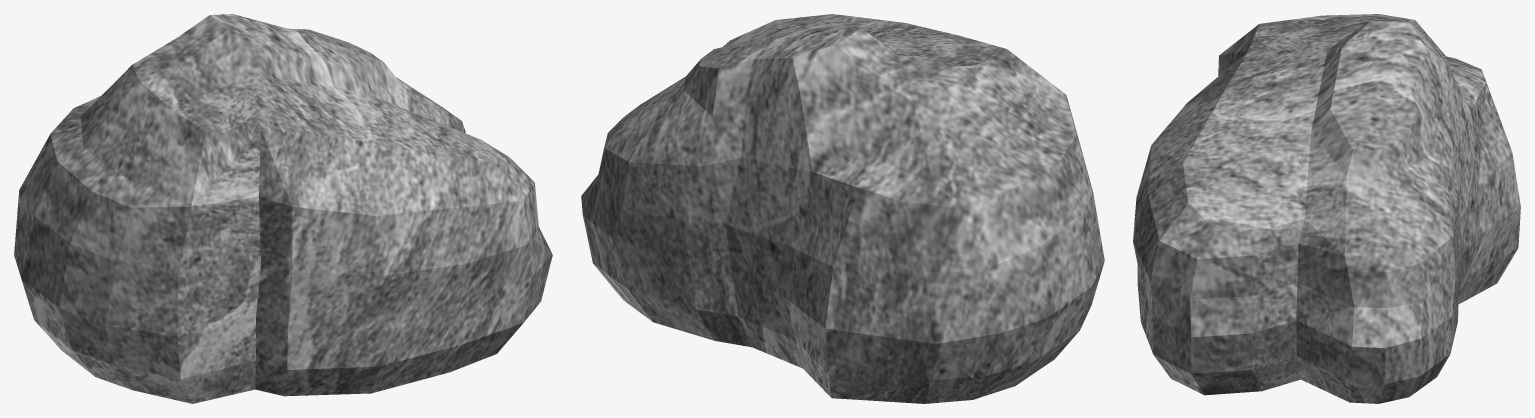
Rendered from Rock.fbx.
3 renders of one model, left to right at view 1: azimuth 30°, elevation 25°; view 2: azimuth 150°, elevation 25°; view 3: azimuth 270°, elevation 25°, orthographic. The views are drawn at different scales.
Visible parts, largest first — view 1: Line001; view 2: Line001; view 3: Line001.
Part boxes in pixels (<box>): Line001: <box>14,14,552,403</box>; Line001: <box>581,14,1104,403</box>; Line001: <box>1133,14,1520,403</box>.
Bounding box in the file's own units: 44.71 × 27.87 × 34.73.
Materials: 1 (1 with a texture image).
